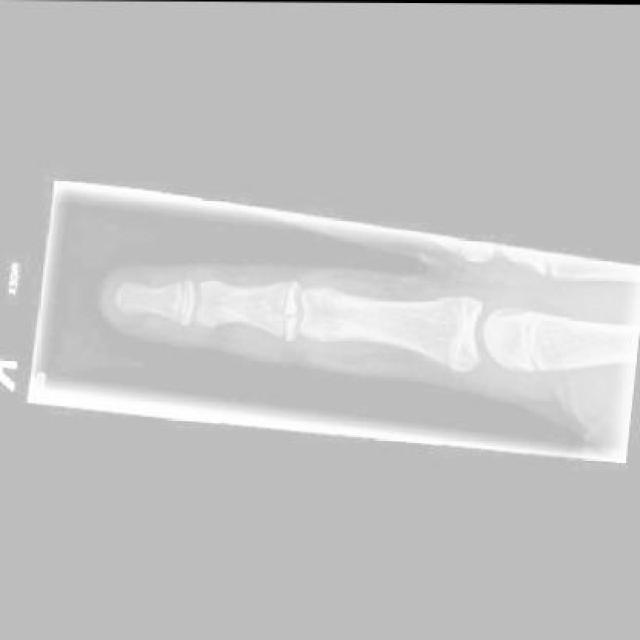Fracture: (265, 275, 307, 319)
